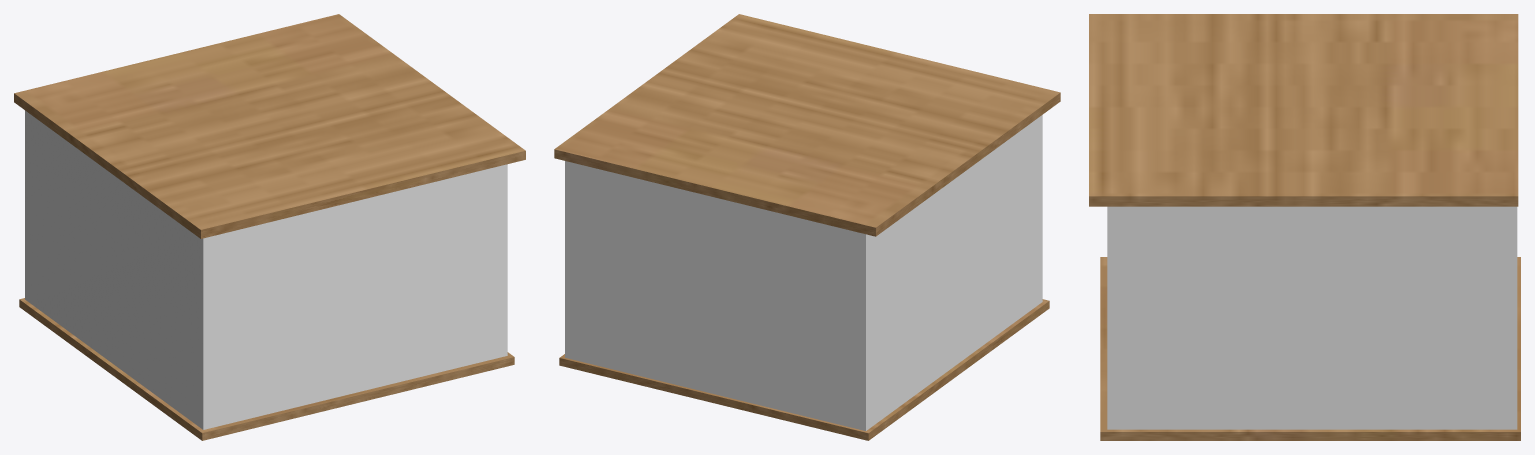
File: Counter Unit (NOdoors or drawers).fbx
3 views of the same model, side by side, from view 1: azimuth 30°, elevation 25°; view 2: azimuth 150°, elevation 25°; view 3: azimuth 270°, elevation 25° (orthographic). The views are drawn at different scales.
Visible parts, largest first — view 1: Base, Counter, Base.001; view 2: Base, Counter, Base.001; view 3: Base, Counter, Base.001.
Part boxes in pixels (x1,y1,x2,y2): Base: (25,110,507,429); Counter: (14,14,525,238); Base.001: (19,298,514,440); Base: (565,115,1042,430); Counter: (554,14,1060,236); Base.001: (559,299,1049,440); Base: (1107,206,1517,429); Counter: (1089,14,1518,206); Base.001: (1100,257,1520,440).
Size of the model in its own units: 0.9922 by 0.6306 by 0.9938.
